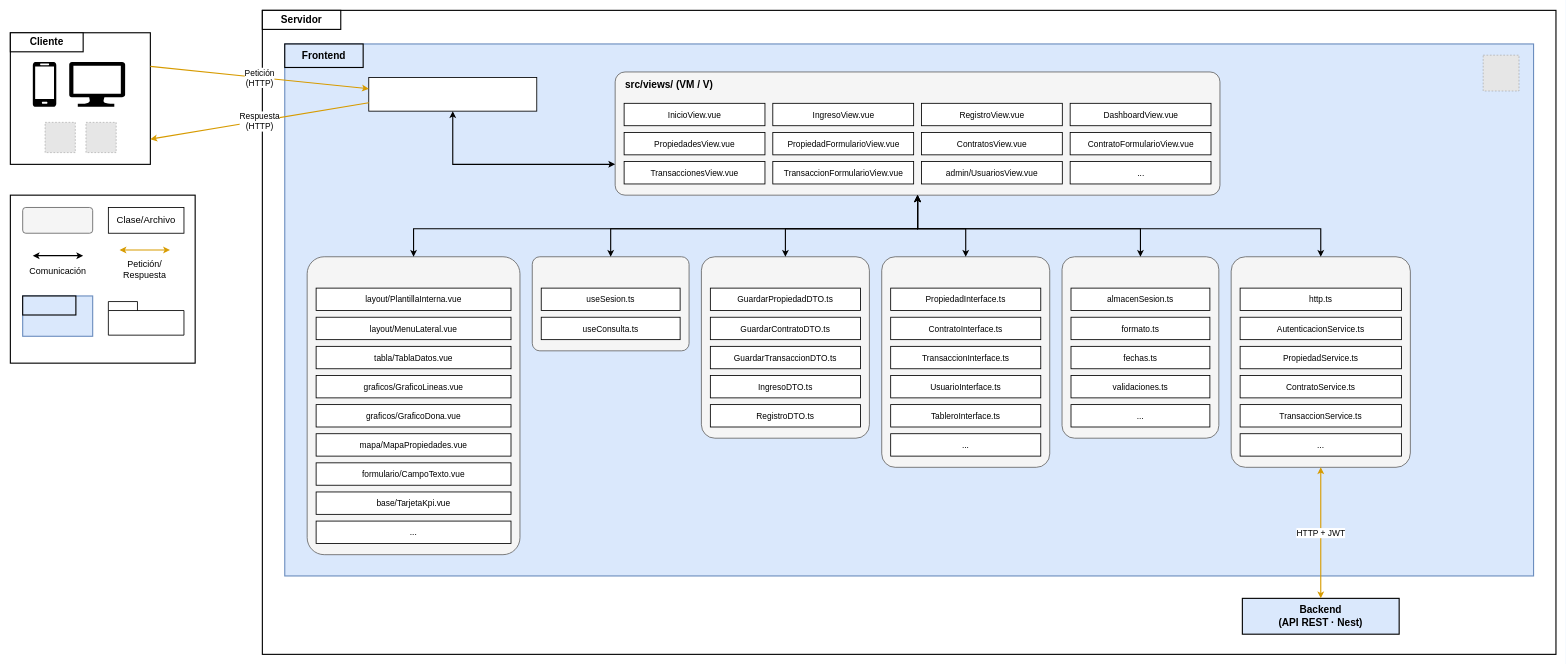
Some shapes in this 1566 by 664 pixel diagram are drawn without their labels. Grey dashed boxes stand in for pictures. Each missing label, with the box of its shape:
capa: (22, 207, 93, 233)
paquete: (108, 301, 184, 335)
Proyecto: (22, 295, 76, 315)
src/components/ (V): (306, 256, 520, 555)
src/composables/ (VM): (532, 256, 689, 351)
src/dtos/ (M): (701, 256, 870, 438)
src/interfaces/ (M): (881, 256, 1050, 467)
src/router/index.ts (guardias de sesión y de rol): (368, 77, 537, 111)
src/services/ (M): (1230, 256, 1411, 467)
src/utils/ (M): (1061, 256, 1219, 438)
